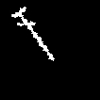double_crochet: (12, 7, 53, 60)
